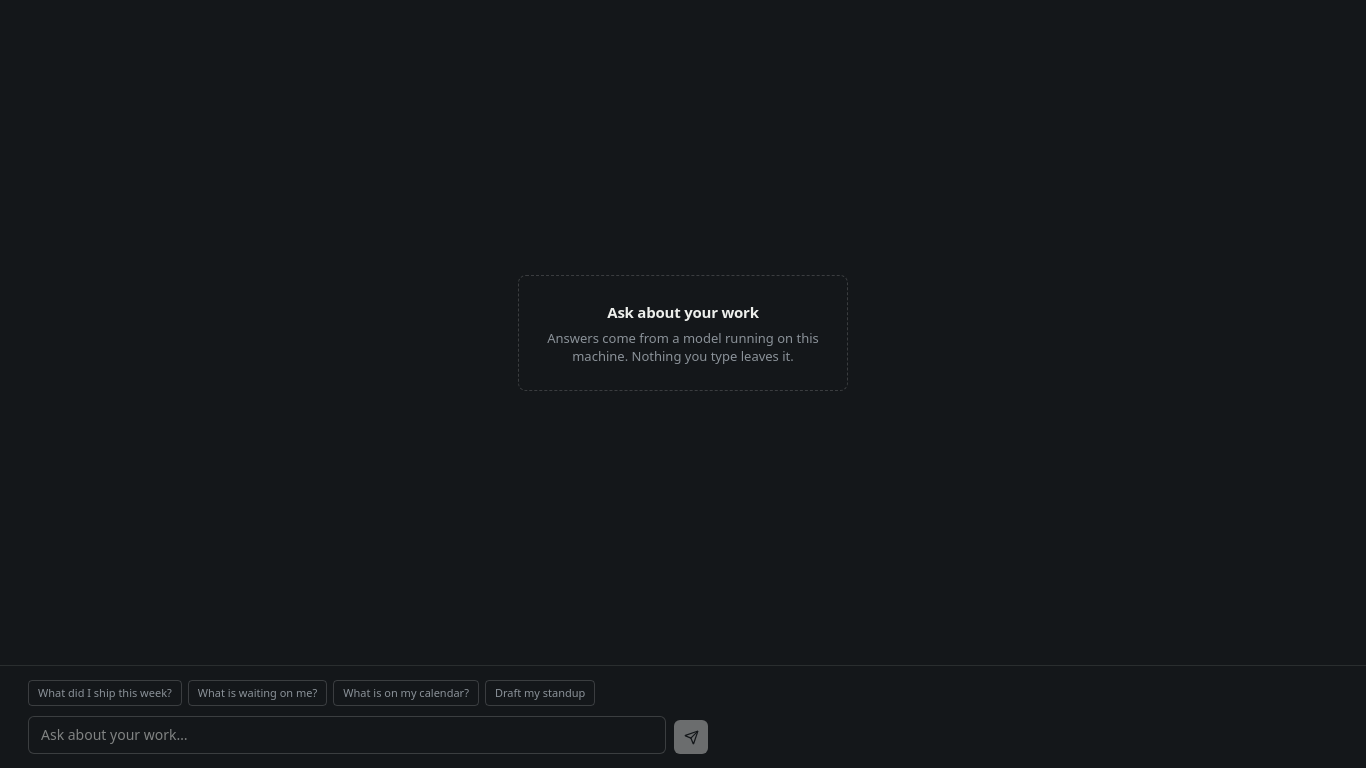
Scenario: ChatView › shows the answer as it is written rather than waiting for all of it
Type "What did I ship?" into the text box named "Message your chief of staff". click: coordinates (347, 735)
box: [28,716,666,754]
Then press Enter
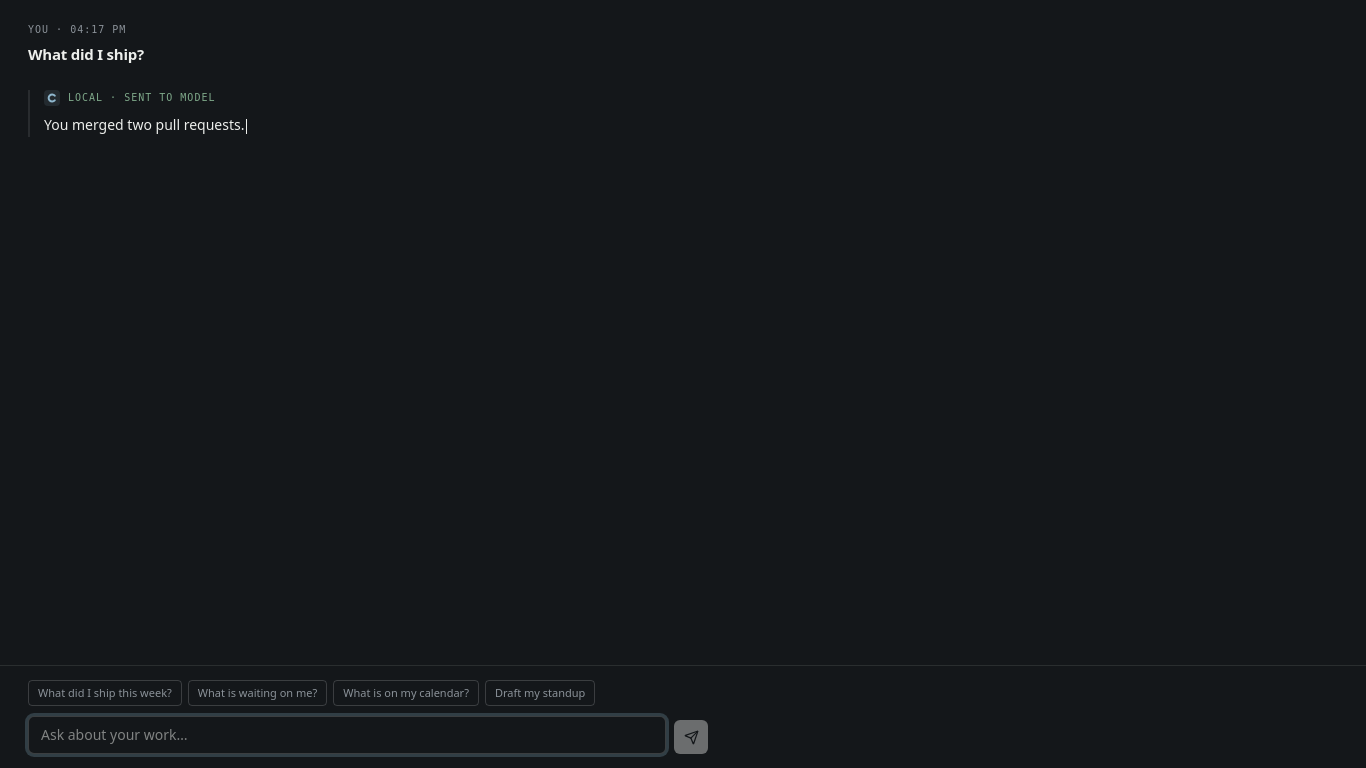
Expected: the text "You merged two pull requests." is shown, [43,114,244,134]
